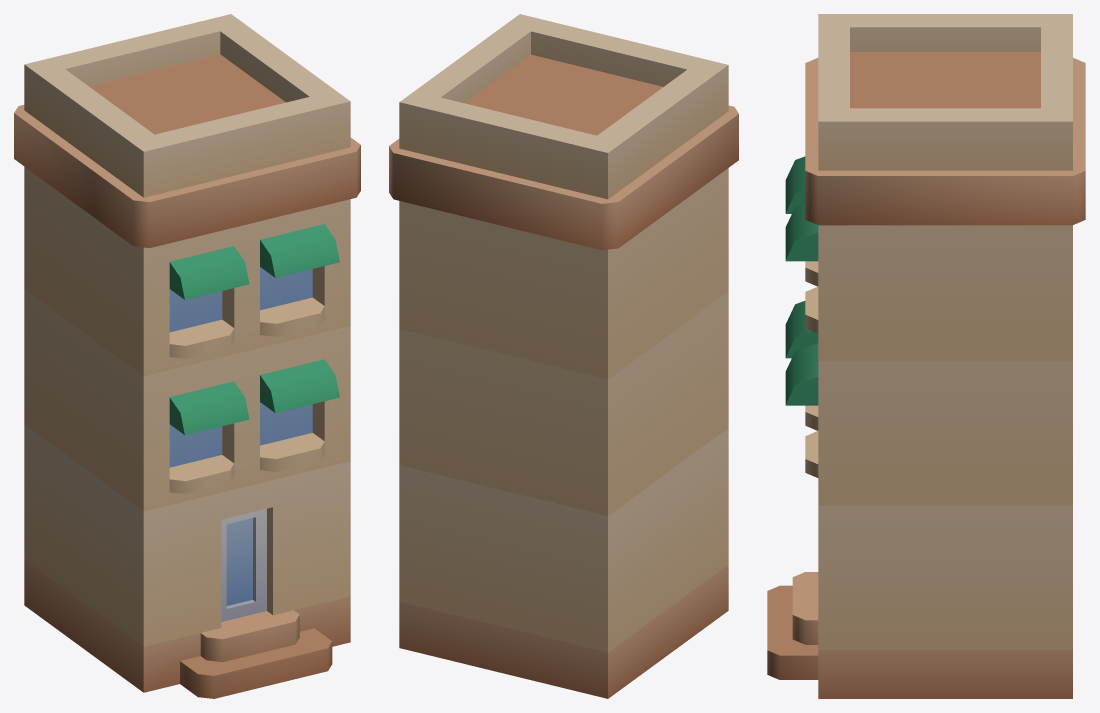
Rendered from tower-a.glb.
3 renders of one model, left to right at view 1: azimuth 30°, elevation 25°; view 2: azimuth 150°, elevation 25°; view 3: azimuth 270°, elevation 25°, orthographic. The views are drawn at different scales.
Visible parts, largest first — view 1: mb_building-sample-tower-a; view 2: mb_building-sample-tower-a; view 3: mb_building-sample-tower-a.
Boxes of the visible parts, x1,y1,x2,y2 form: mb_building-sample-tower-a: (14, 14, 360, 698); mb_building-sample-tower-a: (389, 14, 738, 698); mb_building-sample-tower-a: (767, 14, 1085, 698).
Bounding box in the file's own units: 1.1 × 2.5 × 1.25.
